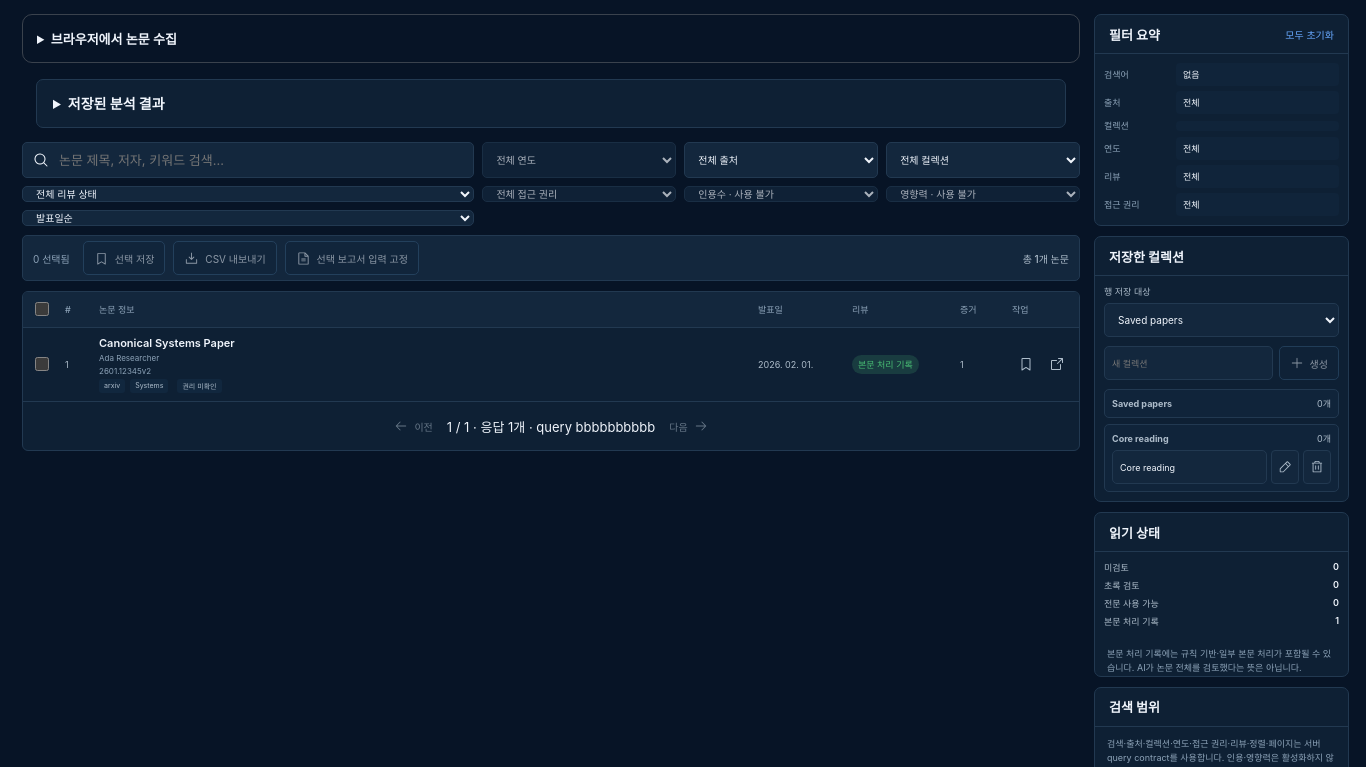
Test: M2 paper bank workspace › persists a row bookmark only after the mutation resolves and keeps Add to report unavailable
The width and height of the screenshot is (1366, 767).
Click the button named "Canonical Systems Paper 저장" at (1026, 364), box [1012,351,1039,378]
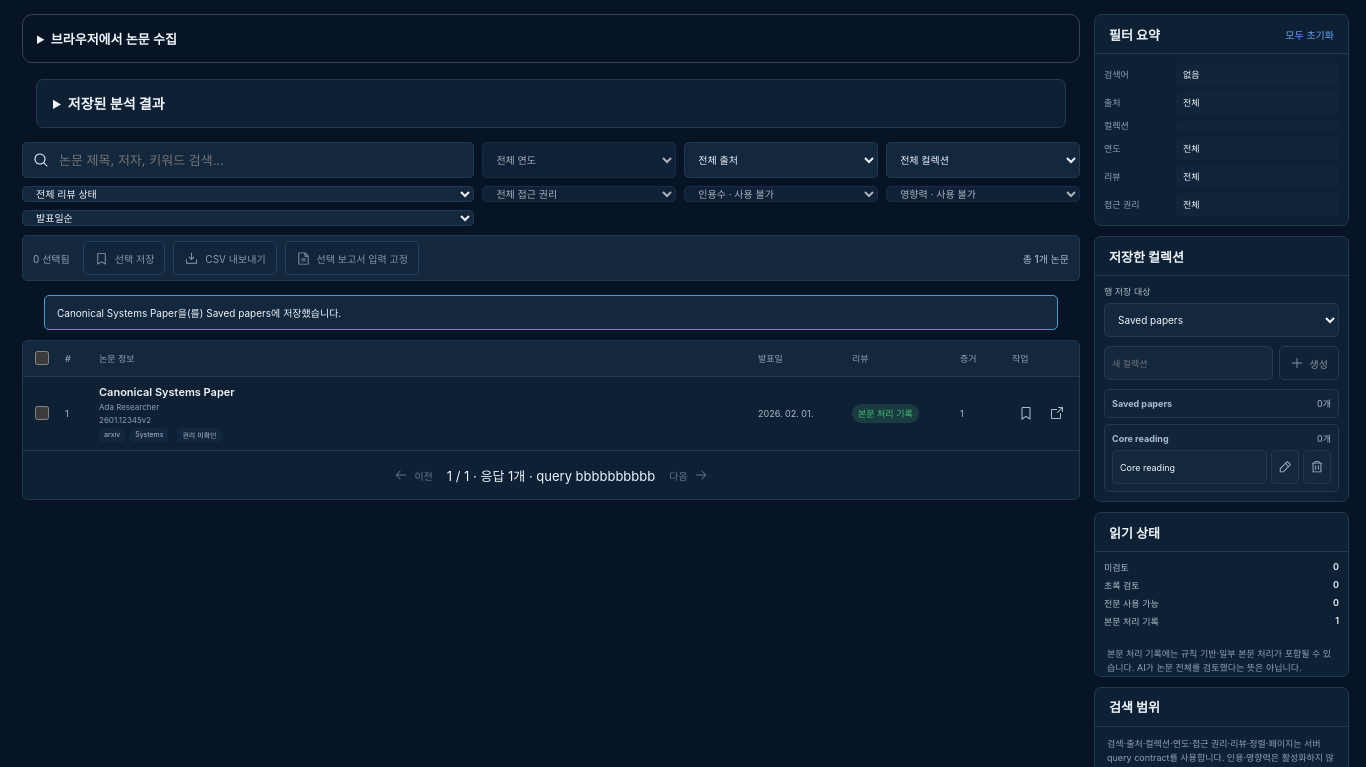
Check: the button "선택 보고서 입력 고정" is disabled, box [285,241,419,275]
Check: the message shows "저장했습니다", box [57,307,341,319]
